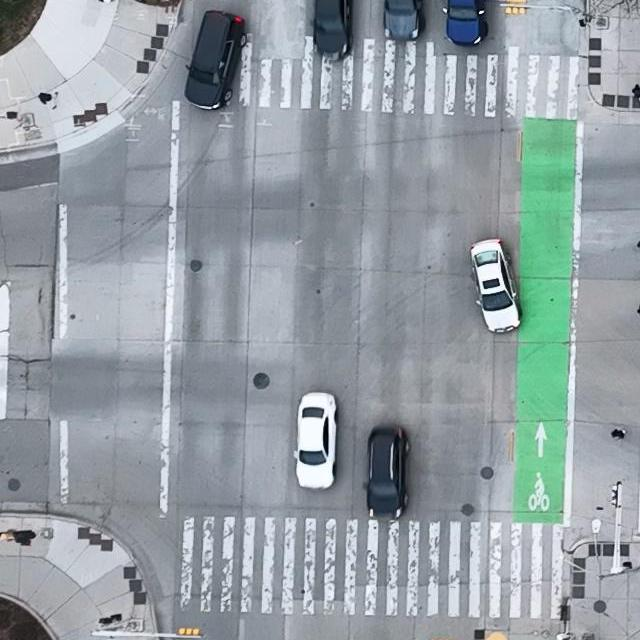car: (185, 9, 247, 110), (469, 239, 523, 334), (295, 391, 338, 489), (367, 424, 412, 515), (310, 0, 351, 59), (443, 0, 489, 47), (383, 0, 423, 39)
